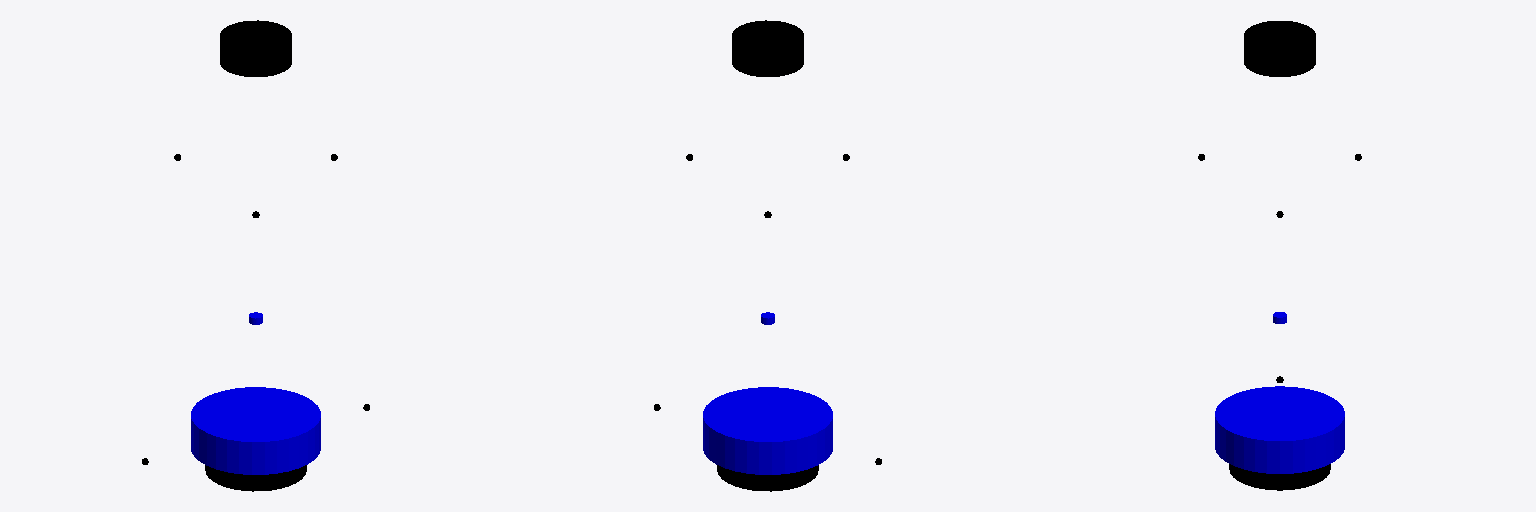
URDF robot description (bb8):
<?xml version="1.0" ?>
<!-- =================================================================================== -->
<!-- |    This document was autogenerated by xacro from src/bb8_description/urdf/bb8.urdf.xacro | -->
<!-- |    EDITING THIS FILE BY HAND IS NOT RECOMMENDED                                 | -->
<!-- =================================================================================== -->
<robot name="bb8">
  <!-- Radius of the outer sphere -->
  <!-- Materials -->
  <material name="blue">
    <color rgba="0 0 1 1"/>
  </material>
  <material name="black">
    <color rgba="0 0 0 1"/>
  </material>
  <material name="white">
    <color rgba="1 1 1 1"/>
  </material>
  <material name="gray">
    <color rgba="0.5 0.5 0.5 1"/>
  </material>
  <gazebo reference="base_link">
    <material>Gazebo/Blue</material>
  </gazebo>
  <gazebo reference="left_wheel">
    <material>Gazebo/Black</material>
  </gazebo>
  <gazebo reference="right_wheel">
    <material>Gazebo/Black</material>
  </gazebo>
  <gazebo reference="sphere_link">
    <material>Gazebo/White</material>
  </gazebo>
  <!-- Base Footprint -->
  <link name="base_footprint"/>
  <!-- Base Link -->
  <link name="base_link">
    <visual>
      <origin rpy="0 0 0" xyz="0 0 -0.1708"/>
      <geometry>
        <cylinder length="0.05" radius="0.09"/>
      </geometry>
      <material name="blue"/>
    </visual>
    <inertial>
      <origin rpy="0 0 0" xyz="0 0 -0.1708"/>
      <mass value="0.5"/>
      <inertia ixx="0.0011166666666666668" ixy="0.0" ixz="0.0" iyy="0.0011166666666666668" iyz="0.0" izz="0.002025"/>
    </inertial>
  </link>
  <!-- Counterweight -->
  <link name="counterweight">
    <visual>
      <geometry>
        <cylinder length="0.04" radius="0.07"/>
      </geometry>
      <material name="black"/>
    </visual>
    <inertial>
      <origin rpy="0 0 0" xyz="0 0 0"/>
      <mass value="1.0"/>
      <inertia ixx="0.0007583333333333335" ixy="0.0" ixz="0.0" iyy="0.0007583333333333335" iyz="0.0" izz="0.0012500000000000002"/>
    </inertial>
  </link>
  <!-- Left Wheel -->
  <link name="left_wheel">
    <visual>
      <origin rpy="0 1.5707963267948966 0" xyz="0 0 0"/>
      <geometry>
        <mesh filename="file:///[local-path]/AMR_project/install/bb8_description/share/bb8_description/meshes/wheel.stl" scale="0.001 0.001 0.001"/>
      </geometry>
      <material name="black"/>
    </visual>
    <collision>
      <origin rpy="0 1.5707963267948966 0" xyz="0 0 0"/>
      <geometry>
        <mesh filename="file:///[local-path]/AMR_project/install/bb8_description/share/bb8_description/meshes/wheel.stl" scale="0.001 0.001 0.001"/>
      </geometry>
    </collision>
    <inertial>
      <origin rpy="0 1.5707963267948966 0" xyz="0 0 0"/>
      <mass value="0.05"/>
      <inertia ixx="0.00011552000000000002" ixy="0.0" ixz="0.0" iyy="0.00011552000000000002" iyz="0.0" izz="0.00011552000000000002"/>
    </inertial>
  </link>
  <link name="wheel_connector">
    <visual>
      <geometry>
        <cylinder length="0.01" radius="0.01"/>
      </geometry>
      <material name="blue"/>
    </visual>
    <inertial>
      <origin rpy="0 0 0" xyz="0 0 0"/>
      <mass value="0.01"/>
      <inertia ixx="3.333333333333333e-07" ixy="0.0" ixz="0.0" iyy="3.333333333333333e-07" iyz="0.0" izz="5.000000000000001e-07"/>
    </inertial>
  </link>
  <!-- Right Wheel -->
  <link name="right_wheel">
    <visual>
      <origin rpy="0 1.5707963267948966 0" xyz="0 0 0"/>
      <geometry>
        <mesh filename="file:///[local-path]/AMR_project/install/bb8_description/share/bb8_description/meshes/wheel.stl" scale="0.001 0.001 0.001"/>
      </geometry>
      <material name="black"/>
    </visual>
    <collision>
      <origin rpy="0 1.5707963267948966 0" xyz="0 0 0"/>
      <geometry>
        <mesh filename="file:///[local-path]/AMR_project/install/bb8_description/share/bb8_description/meshes/wheel.stl" scale="0.001 0.001 0.001"/>
      </geometry>
    </collision>
    <inertial>
      <origin rpy="0 1.5707963267948966 0" xyz="0 0 0"/>
      <mass value="0.05"/>
      <inertia ixx="0.00011552000000000002" ixy="0.0" ixz="0.0" iyy="0.00011552000000000002" iyz="0.0" izz="0.00011552000000000002"/>
    </inertial>
  </link>
  <!-- Joints -->
  <joint name="base_joint" type="floating">
    <parent link="base_footprint"/>
    <child link="base_link"/>
    <origin rpy="0 0 0" xyz="0 0 0.25"/>
  </joint>
  <joint name="wheel_connector_joint" type="fixed">
    <parent link="base_link"/>
    <child link="wheel_connector"/>
    <origin rpy="0 0 1.5707963267948966" xyz="0 0 0"/>
  </joint>
  <joint name="counterweight_joint" type="fixed">
    <parent link="base_link"/>
    <child link="counterweight"/>
    <origin rpy="0 0 0" xyz="0 0 -0.21"/>
  </joint>
  <joint name="left_wheel_joint" type="continuous">
    <parent link="wheel_connector"/>
    <child link="left_wheel"/>
    <origin rpy="0 0 0" xyz="0.17185 0 -0.1458"/>
    <axis xyz="1 0 0"/>
  </joint>
  <joint name="right_wheel_joint" type="continuous">
    <parent link="wheel_connector"/>
    <child link="right_wheel"/>
    <origin rpy="0 0 0" xyz="-0.17185 0 -0.1458"/>
    <axis xyz="1 0 0"/>
  </joint>
  <!-- Collision Tuning for Robot and Sphere -->
  <gazebo reference="left_wheel">
    <self_collide>true</self_collide>
    <surface>
      <contact>
        <collide_without_contact>false</collide_without_contact>
        <stiffness>1e6</stiffness>
        <damping>2e3</damping>
      </contact>
      <friction>
        <ode>
          <mu>1.0</mu>
          <mu2>1.0</mu2>
        </ode>
      </friction>
    </surface>
  </gazebo>
  <gazebo reference="right_wheel">
    <self_collide>true</self_collide>
    <surface>
      <contact>
        <collide_without_contact>false</collide_without_contact>
        <stiffness>1e6</stiffness>
        <damping>2e3</damping>
      </contact>
      <friction>
        <ode>
          <mu>1.0</mu>
          <mu2>1.0</mu2>
        </ode>
      </friction>
    </surface>
  </gazebo>
  <!-- Outer Sphere Link -->
  <link name="sphere_link">
    <visual>
      <geometry>
        <mesh filename="file:///[local-path]/AMR_project/install/bb8_description/share/bb8_description/meshes/sphere.stl" scale="0.001 0.001 0.001"/>
      </geometry>
      <material name="white_transparent">
        <color rgba="1 1 1 0.2"/>
      </material>
    </visual>
    <collision>
      <geometry>
        <mesh filename="file:///[local-path]/AMR_project/install/bb8_description/share/bb8_description/meshes/sphere.stl" scale="0.001 0.001 0.001"/>
      </geometry>
    </collision>
    <inertial>
      <mass value="0.5"/>
      <inertia ixx="0.2" ixy="0.0" ixz="0.0" iyy="0.2" iyz="0.0" izz="0.2"/>
    </inertial>
  </link>
  <!-- Joint to Connect Sphere and Hamster -->
  <joint name="sphere_joint" type="floating">
    <parent link="base_footprint"/>
    <child link="sphere_link"/>
    <origin rpy="0 0 0" xyz="0 0 0"/>
  </joint>
  <gazebo reference="sphere_link">
    <mu>1.0</mu>
    <mu2>1.0</mu2>
    <collision>
      <surface>
        <contact>
          <ode>
            <min_depth>0.001</min_depth>
          </ode>
        </contact>
      </surface>
      <margin>0.01</margin>
    </collision>
  </gazebo>
  <!-- Main supports container -->
  <link name="supports"/>
  <!-- Virtual link for positioning -->
  <link name="support1_virtual"/>
  <!-- Sphere link -->
  <link name="support1_sphere">
    <visual>
      <geometry>
        <sphere radius="0.005"/>
      </geometry>
      <material name="black"/>
    </visual>
    <collision>
      <geometry>
        <sphere radius="0.005"/>
      </geometry>
    </collision>
    <inertial>
      <mass value="0.01"/>
      <inertia ixx="0.00001" ixy="0" ixz="0" iyy="0.00001" iyz="0" izz="0.00001"/>
    </inertial>
  </link>
  <!-- Joint hierarchy -->
  <joint name="support1_virtual_joint" type="fixed">
    <parent link="supports"/>
    <child link="support1_virtual"/>
    <origin rpy="0 0.7853981633974483 0" xyz="0 0 0"/>
  </joint>
  <joint name="support1_sphere_joint" type="fixed">
    <parent link="support1_virtual"/>
    <child link="support1_sphere"/>
    <origin rpy="0 0 0" xyz="0.2494 0 0"/>
  </joint>
  <!-- Physics properties -->
  <gazebo reference="support1_sphere">
    <mu>0.001</mu>
    <mu2>0.001</mu2>
    <self_collide>true</self_collide>
    <contact>
      <collide_without_contact>false</collide_without_contact>
      <stiffness>1e3</stiffness>
      <damping>10</damping>
    </contact>
  </gazebo>
  <!-- Virtual link for positioning -->
  <link name="support2_virtual"/>
  <!-- Sphere link -->
  <link name="support2_sphere">
    <visual>
      <geometry>
        <sphere radius="0.005"/>
      </geometry>
      <material name="black"/>
    </visual>
    <collision>
      <geometry>
        <sphere radius="0.005"/>
      </geometry>
    </collision>
    <inertial>
      <mass value="0.01"/>
      <inertia ixx="0.00001" ixy="0" ixz="0" iyy="0.00001" iyz="0" izz="0.00001"/>
    </inertial>
  </link>
  <!-- Joint hierarchy -->
  <joint name="support2_virtual_joint" type="fixed">
    <parent link="supports"/>
    <child link="support2_virtual"/>
    <origin rpy="0 0.7853981633974483 3.141592653589793" xyz="0 0 0"/>
  </joint>
  <joint name="support2_sphere_joint" type="fixed">
    <parent link="support2_virtual"/>
    <child link="support2_sphere"/>
    <origin rpy="0 0 0" xyz="0.2494 0 0"/>
  </joint>
  <!-- Physics properties -->
  <gazebo reference="support2_sphere">
    <mu>0.001</mu>
    <mu2>0.001</mu2>
    <self_collide>true</self_collide>
    <contact>
      <collide_without_contact>false</collide_without_contact>
      <stiffness>1e3</stiffness>
      <damping>10</damping>
    </contact>
  </gazebo>
  <!-- <xacro:spherical_support prefix="support1" angle_1="$(eval pi/4)" angle_2="$(eval pi/4)"/> -->
  <!-- <xacro:spherical_support prefix="support2" angle_1="$(eval pi/4)" angle_2="$(eval 3*pi/4)"/> -->
  <!-- <xacro:spherical_support prefix="support6" angle_1="$(eval pi/4)" angle_2="$(eval 5*pi/4)"/> -->
  <!-- <xacro:spherical_support prefix="support7" angle_1="$(eval pi/4)" angle_2="$(eval 7*pi/4)"/> -->
  <!-- Virtual link for positioning -->
  <link name="support3_virtual"/>
  <!-- Sphere link -->
  <link name="support3_sphere">
    <visual>
      <geometry>
        <sphere radius="0.005"/>
      </geometry>
      <material name="black"/>
    </visual>
    <collision>
      <geometry>
        <sphere radius="0.005"/>
      </geometry>
    </collision>
    <inertial>
      <mass value="0.01"/>
      <inertia ixx="0.00001" ixy="0" ixz="0" iyy="0.00001" iyz="0" izz="0.00001"/>
    </inertial>
  </link>
  <!-- Joint hierarchy -->
  <joint name="support3_virtual_joint" type="fixed">
    <parent link="supports"/>
    <child link="support3_virtual"/>
    <origin rpy="0 -1.0471975511965976 0" xyz="0 0 0"/>
  </joint>
  <joint name="support3_sphere_joint" type="fixed">
    <parent link="support3_virtual"/>
    <child link="support3_sphere"/>
    <origin rpy="0 0 0" xyz="0.2494 0 0"/>
  </joint>
  <!-- Physics properties -->
  <gazebo reference="support3_sphere">
    <mu>0.001</mu>
    <mu2>0.001</mu2>
    <self_collide>true</self_collide>
    <contact>
      <collide_without_contact>false</collide_without_contact>
      <stiffness>1e3</stiffness>
      <damping>10</damping>
    </contact>
  </gazebo>
  <!-- Virtual link for positioning -->
  <link name="support4_virtual"/>
  <!-- Sphere link -->
  <link name="support4_sphere">
    <visual>
      <geometry>
        <sphere radius="0.005"/>
      </geometry>
      <material name="black"/>
    </visual>
    <collision>
      <geometry>
        <sphere radius="0.005"/>
      </geometry>
    </collision>
    <inertial>
      <mass value="0.01"/>
      <inertia ixx="0.00001" ixy="0" ixz="0" iyy="0.00001" iyz="0" izz="0.00001"/>
    </inertial>
  </link>
  <!-- Joint hierarchy -->
  <joint name="support4_virtual_joint" type="fixed">
    <parent link="supports"/>
    <child link="support4_virtual"/>
    <origin rpy="0 -1.0471975511965976 2.0943951023931953" xyz="0 0 0"/>
  </joint>
  <joint name="support4_sphere_joint" type="fixed">
    <parent link="support4_virtual"/>
    <child link="support4_sphere"/>
    <origin rpy="0 0 0" xyz="0.2494 0 0"/>
  </joint>
  <!-- Physics properties -->
  <gazebo reference="support4_sphere">
    <mu>0.001</mu>
    <mu2>0.001</mu2>
    <self_collide>true</self_collide>
    <contact>
      <collide_without_contact>false</collide_without_contact>
      <stiffness>1e3</stiffness>
      <damping>10</damping>
    </contact>
  </gazebo>
  <!-- Virtual link for positioning -->
  <link name="support5_virtual"/>
  <!-- Sphere link -->
  <link name="support5_sphere">
    <visual>
      <geometry>
        <sphere radius="0.005"/>
      </geometry>
      <material name="black"/>
    </visual>
    <collision>
      <geometry>
        <sphere radius="0.005"/>
      </geometry>
    </collision>
    <inertial>
      <mass value="0.01"/>
      <inertia ixx="0.00001" ixy="0" ixz="0" iyy="0.00001" iyz="0" izz="0.00001"/>
    </inertial>
  </link>
  <!-- Joint hierarchy -->
  <joint name="support5_virtual_joint" type="fixed">
    <parent link="supports"/>
    <child link="support5_virtual"/>
    <origin rpy="0 -1.0471975511965976 4.1887902047863905" xyz="0 0 0"/>
  </joint>
  <joint name="support5_sphere_joint" type="fixed">
    <parent link="support5_virtual"/>
    <child link="support5_sphere"/>
    <origin rpy="0 0 0" xyz="0.2494 0 0"/>
  </joint>
  <!-- Physics properties -->
  <gazebo reference="support5_sphere">
    <mu>0.001</mu>
    <mu2>0.001</mu2>
    <self_collide>true</self_collide>
    <contact>
      <collide_without_contact>false</collide_without_contact>
      <stiffness>1e3</stiffness>
      <damping>10</damping>
    </contact>
  </gazebo>
  <!-- Connect supports to base -->
  <joint name="supports_joint" type="fixed">
    <parent link="base_link"/>
    <child link="supports"/>
    <origin rpy="0 0 0" xyz="0 0 0"/>
  </joint>
  <link name="head">
    <visual>
      <origin rpy="0 0 0" xyz="0 0 -0.26"/>
      <geometry>
        <mesh filename="file:///[local-path]/AMR_project/install/bb8_description/share/bb8_description/meshes/head.stl" scale="0.001 0.001 0.001"/>
      </geometry>
      <material name="white_transparent">
        <color rgba="1 1 1 0.2"/>
      </material>
    </visual>
    <inertial>
      <origin rpy="0 0 0" xyz="0 0 0.045"/>
      <mass value="0.5"/>
      <inertia ixx="0.00375" ixy="0.0" ixz="0.0" iyy="0.00375" iyz="0.0" izz="0.005625"/>
    </inertial>
  </link>
  <!-- Intermediate links for ball joint -->
  <link name="head_x_link">
    <inertial>
      <mass value="0.01"/>
      <inertia ixx="0.001" ixy="0.0" ixz="0.0" iyy="0.001" iyz="0.0" izz="0.001"/>
    </inertial>
  </link>
  <link name="head_y_link">
    <inertial>
      <mass value="0.01"/>
      <inertia ixx="0.001" ixy="0.0" ixz="0.0" iyy="0.001" iyz="0.0" izz="0.001"/>
    </inertial>
  </link>
  <!-- Revolute joints with limits for full ball joint motion -->
  <joint name="head_x_joint" type="revolute">
    <parent link="base_link"/>
    <child link="head_x_link"/>
    <origin rpy="0 0 0" xyz="0 0 0"/>
    <axis xyz="1 0 0"/>
    <limit effort="10" lower="-0.3490658503988659" upper="0.3490658503988659" velocity="1.0"/>
    <dynamics damping="0.1" friction="0.01"/>
  </joint>
  <joint name="head_y_joint" type="revolute">
    <parent link="head_x_link"/>
    <child link="head_y_link"/>
    <origin rpy="0 0 0" xyz="0 0 0"/>
    <axis xyz="0 1 0"/>
    <limit effort="10" lower="-0.3490658503988659" upper="0.3490658503988659" velocity="1.0"/>
    <dynamics damping="0.1" friction="0.01"/>
  </joint>
  <!-- Fixed joint to attach head to the final rotation link -->
  <joint name="head_attachment" type="fixed">
    <parent link="head_y_link"/>
    <child link="head"/>
    <origin rpy="0 0 0" xyz="0 0 0.26"/>
  </joint>
  <gazebo>
    <plugin filename="libgazebo_ros_p3d.so" name="libgazebo_ros_p3d">
      <ros>
        <remapping>odom:=sphere_pose</remapping>
      </ros>
      <frame_name>base_footprint</frame_name>
      <body_name>sphere_link</body_name>
      <update_rate>50</update_rate>
      <gaussian_noise>0.01</gaussian_noise>
    </plugin>
  </gazebo>
  <ros2_control name="bb8" type="system">
    <hardware>
      <plugin>gazebo_ros2_control/GazeboSystem</plugin>
    </hardware>
    <joint name="left_wheel_joint">
      <command_interface name="velocity">
        <param name="min">-10</param>
        <param name="max">10</param>
      </command_interface>
      <state_interface name="velocity"/>
      <state_interface name="position"/>
    </joint>
    <joint name="right_wheel_joint">
      <command_interface name="velocity">
        <param name="min">-10</param>
        <param name="max">10</param>
      </command_interface>
      <state_interface name="velocity"/>
      <state_interface name="position"/>
    </joint>
    <joint name="head_x_joint">
      <command_interface name="position">
        <param name="min">-20</param>
        <param name="max">20</param>
      </command_interface>
      <state_interface name="position"/>
    </joint>
    <joint name="head_y_joint">
      <command_interface name="position">
        <param name="min">-20</param>
        <param name="max">20</param>
      </command_interface>
      <state_interface name="position"/>
    </joint>
  </ros2_control>
  <gazebo>
    <plugin filename="libgazebo_ros2_control.so" name="gazebo_ros2_control">
      <parameters>[local-path]/AMR_project/install/bb8_controllers/share/bb8_controllers/config/controllers.yaml</parameters>
    </plugin>
  </gazebo>
  <!-- IMU Link -->
  <link name="imu_base_link"/>
  <!-- IMU Joint -->
  <joint name="imu_base_joint" type="fixed">
    <parent link="base_link"/>
    <child link="imu_base_link"/>
    <origin rpy="0 0 0" xyz="0 0 0"/>
  </joint>
  <!-- Gazebo IMU Plugin -->
  <gazebo reference="imu_base_link">
    <sensor name="imu_base" type="imu">
      <always_on>true</always_on>
      <update_rate>50.0</update_rate>
      <visualize>true</visualize>
      <plugin filename="libgazebo_ros_imu_sensor.so" name="gazebo_ros_imu_base">
        <ros>
          <remapping>~/out:=imu_base</remapping>
        </ros>
        <frame_name>imu_base_link</frame_name>
        <enable_orientation>true</enable_orientation>
        <enable_angular_velocity>true</enable_angular_velocity>
        <enable_linear_acceleration>true</enable_linear_acceleration>
        <imu>
          <noise>
            <type>gaussian</type>
            <accel>
              <mean>0.0</mean>
              <stddev>0.01</stddev>
            </accel>
            <gyro>
              <mean>0.0</mean>
              <stddev>0.001</stddev>
            </gyro>
          </noise>
        </imu>
      </plugin>
    </sensor>
  </gazebo>
  <!-- <xacro:imu_sensor parent_link="head" sensor_name="imu_head"/> -->
  <joint name="lidar_joint" type="fixed">
    <parent link="head"/>
    <child link="lidar"/>
    <origin rpy="0 0 0" xyz="0 0 0.15"/>
  </joint>
  <link name="lidar">
    <visual>
      <geometry>
        <cylinder length="0.04" radius="0.05"/>
      </geometry>
      <material name="black"/>
    </visual>
    <collision>
      <geometry>
        <cylinder length="0.04" radius="0.05"/>
      </geometry>
    </collision>
    <inertial>
      <mass value="0.1"/>
      <origin rpy="0 0 0" xyz="0 0 0"/>
      <inertia ixx="0.001" ixy="0" ixz="0" iyy="0.001" iyz="0" izz="0.001"/>
    </inertial>
  </link>
  <gazebo reference="lidar">
    <sensor name="lidar_sensor" type="ray">
      <pose>0 0 0 0 0 0</pose>
      <visualize>true</visualize>
      <update_rate>10.0</update_rate>
      <ray>
        <scan>
          <horizontal>
            <samples>360</samples>
            <resolution>1</resolution>
            <min_angle>-3.141592653589793</min_angle>
            <max_angle>3.141592653589793</max_angle>
          </horizontal>
        </scan>
        <range>
          <min>0.1</min>
          <max>12.0</max>
          <resolution>0.01</resolution>
        </range>
      </ray>
      <plugin filename="libgazebo_ros_ray_sensor.so" name="lidar_plugin">
        <ros>
          <remapping>~/out:=scan</remapping>
        </ros>
        <output_type>sensor_msgs/LaserScan</output_type>
        <frame_name>lidar</frame_name>
      </plugin>
    </sensor>
  </gazebo>
  <!-- <xacro:include filename="gazebo_control.xacro" /> -->
</robot>

--- What the picture shows (computed from the rendered views, not written in the file) ---
The picture shows the robot from 3 angles, left to right: view 1: azimuth 30°, elevation 25°; view 2: azimuth 150°, elevation 25°; view 3: azimuth 270°, elevation 25°; orthographic projection.
Model bb8 with 23 links and 22 joints (2 revolute, 2 continuous, 16 fixed, 2 floating), rooted at base_footprint, posed every joint at zero.
Links seen in each view (by area): view 1: base_link, lidar, counterweight; view 2: base_link, lidar, counterweight; view 3: base_link, lidar, counterweight.
Boxes of the visible links, x1,y1,x2,y2 form: base_link: [191, 387, 320, 474]; lidar: [220, 20, 291, 76]; counterweight: [205, 465, 306, 491]; base_link: [703, 387, 832, 474]; lidar: [732, 20, 803, 76]; counterweight: [717, 465, 818, 491]; base_link: [1215, 386, 1344, 473]; lidar: [1244, 21, 1315, 76]; counterweight: [1229, 464, 1330, 489].
Size in the robot's own frame: 0.3627 by 0.226 by 0.66 metres.
Geometry: only primitive shapes (box / cylinder / sphere) drawn; not drawn: 4 mesh visuals (reference in a form the renderer does not follow).
